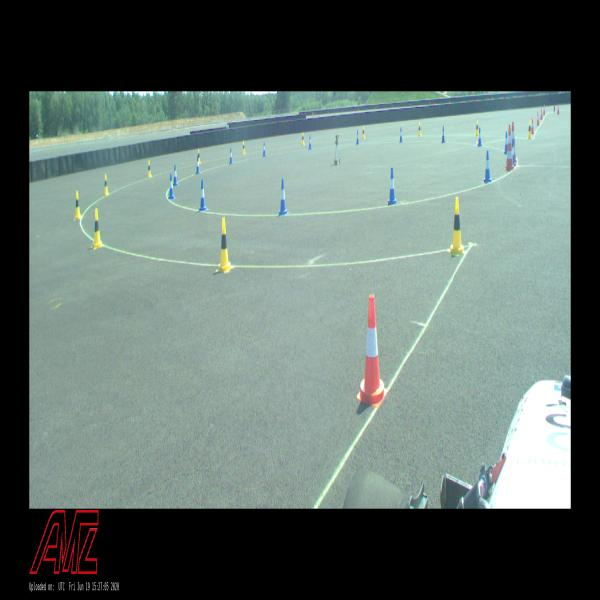blue_cone: (278, 179, 289, 215), (388, 167, 396, 205), (199, 179, 208, 211), (484, 151, 492, 183), (168, 174, 175, 200), (511, 138, 516, 166), (503, 131, 509, 154), (173, 164, 179, 186), (477, 127, 482, 147), (229, 147, 234, 164), (196, 157, 201, 174), (440, 126, 445, 143), (399, 126, 403, 143), (308, 134, 312, 150), (262, 142, 266, 156), (356, 130, 359, 145)
large_orange_cone: (505, 125, 514, 172), (508, 121, 517, 164)
orange_cone: (357, 295, 388, 407), (530, 117, 534, 134), (536, 111, 540, 126), (540, 108, 543, 120), (557, 103, 560, 114), (543, 104, 546, 114)
yellow_cone: (449, 198, 465, 255), (217, 216, 231, 272), (92, 208, 102, 250), (74, 191, 82, 220), (103, 174, 109, 196), (147, 160, 152, 178), (527, 121, 532, 138), (475, 120, 479, 136), (197, 148, 201, 164), (418, 122, 422, 136), (301, 132, 305, 145), (242, 141, 246, 154), (362, 126, 365, 139)
